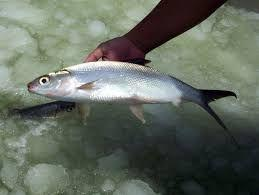Bangus: (27, 60, 240, 142)
